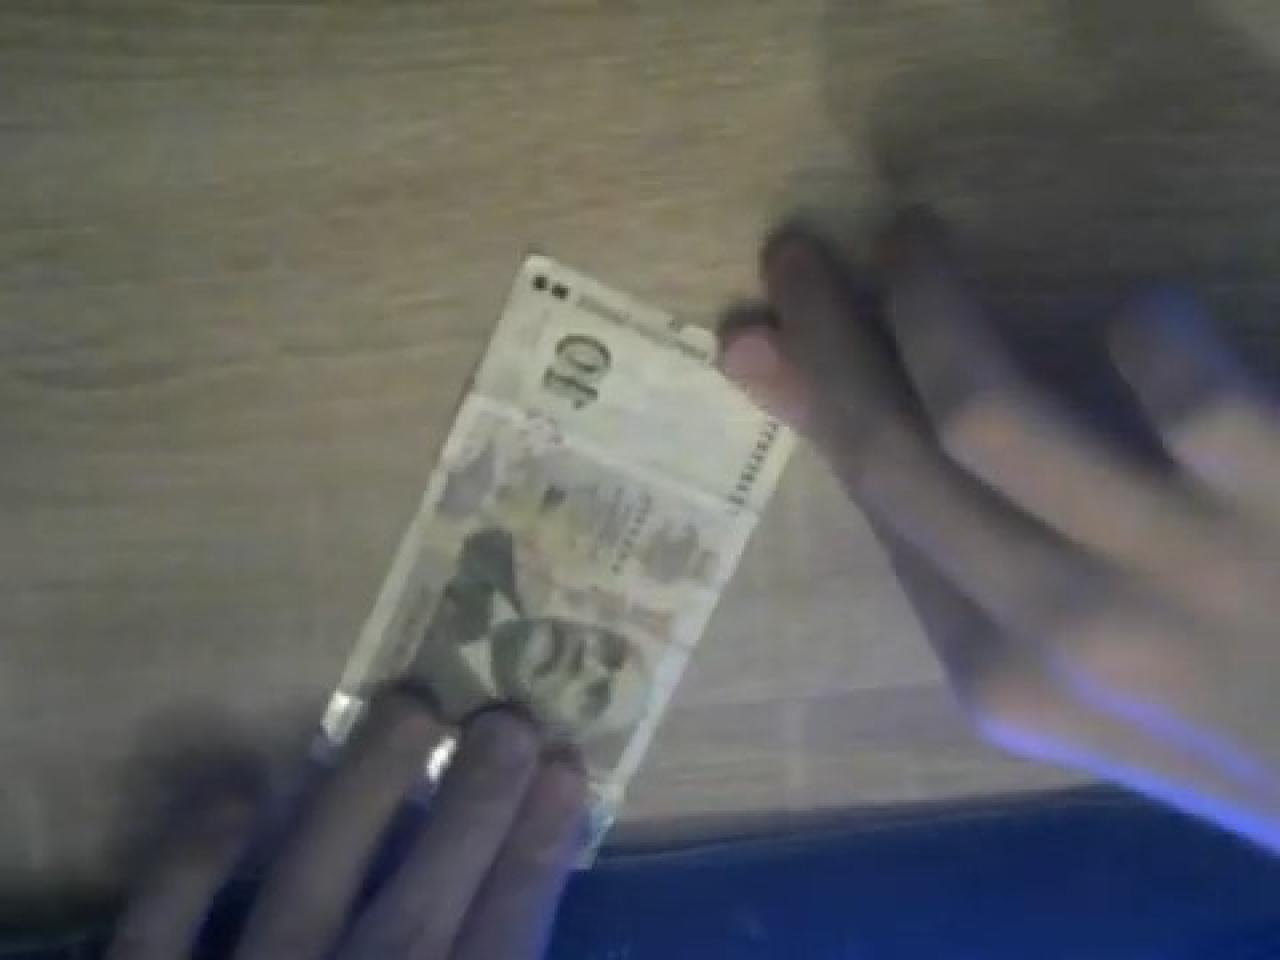10leva: (189, 253, 797, 960)
